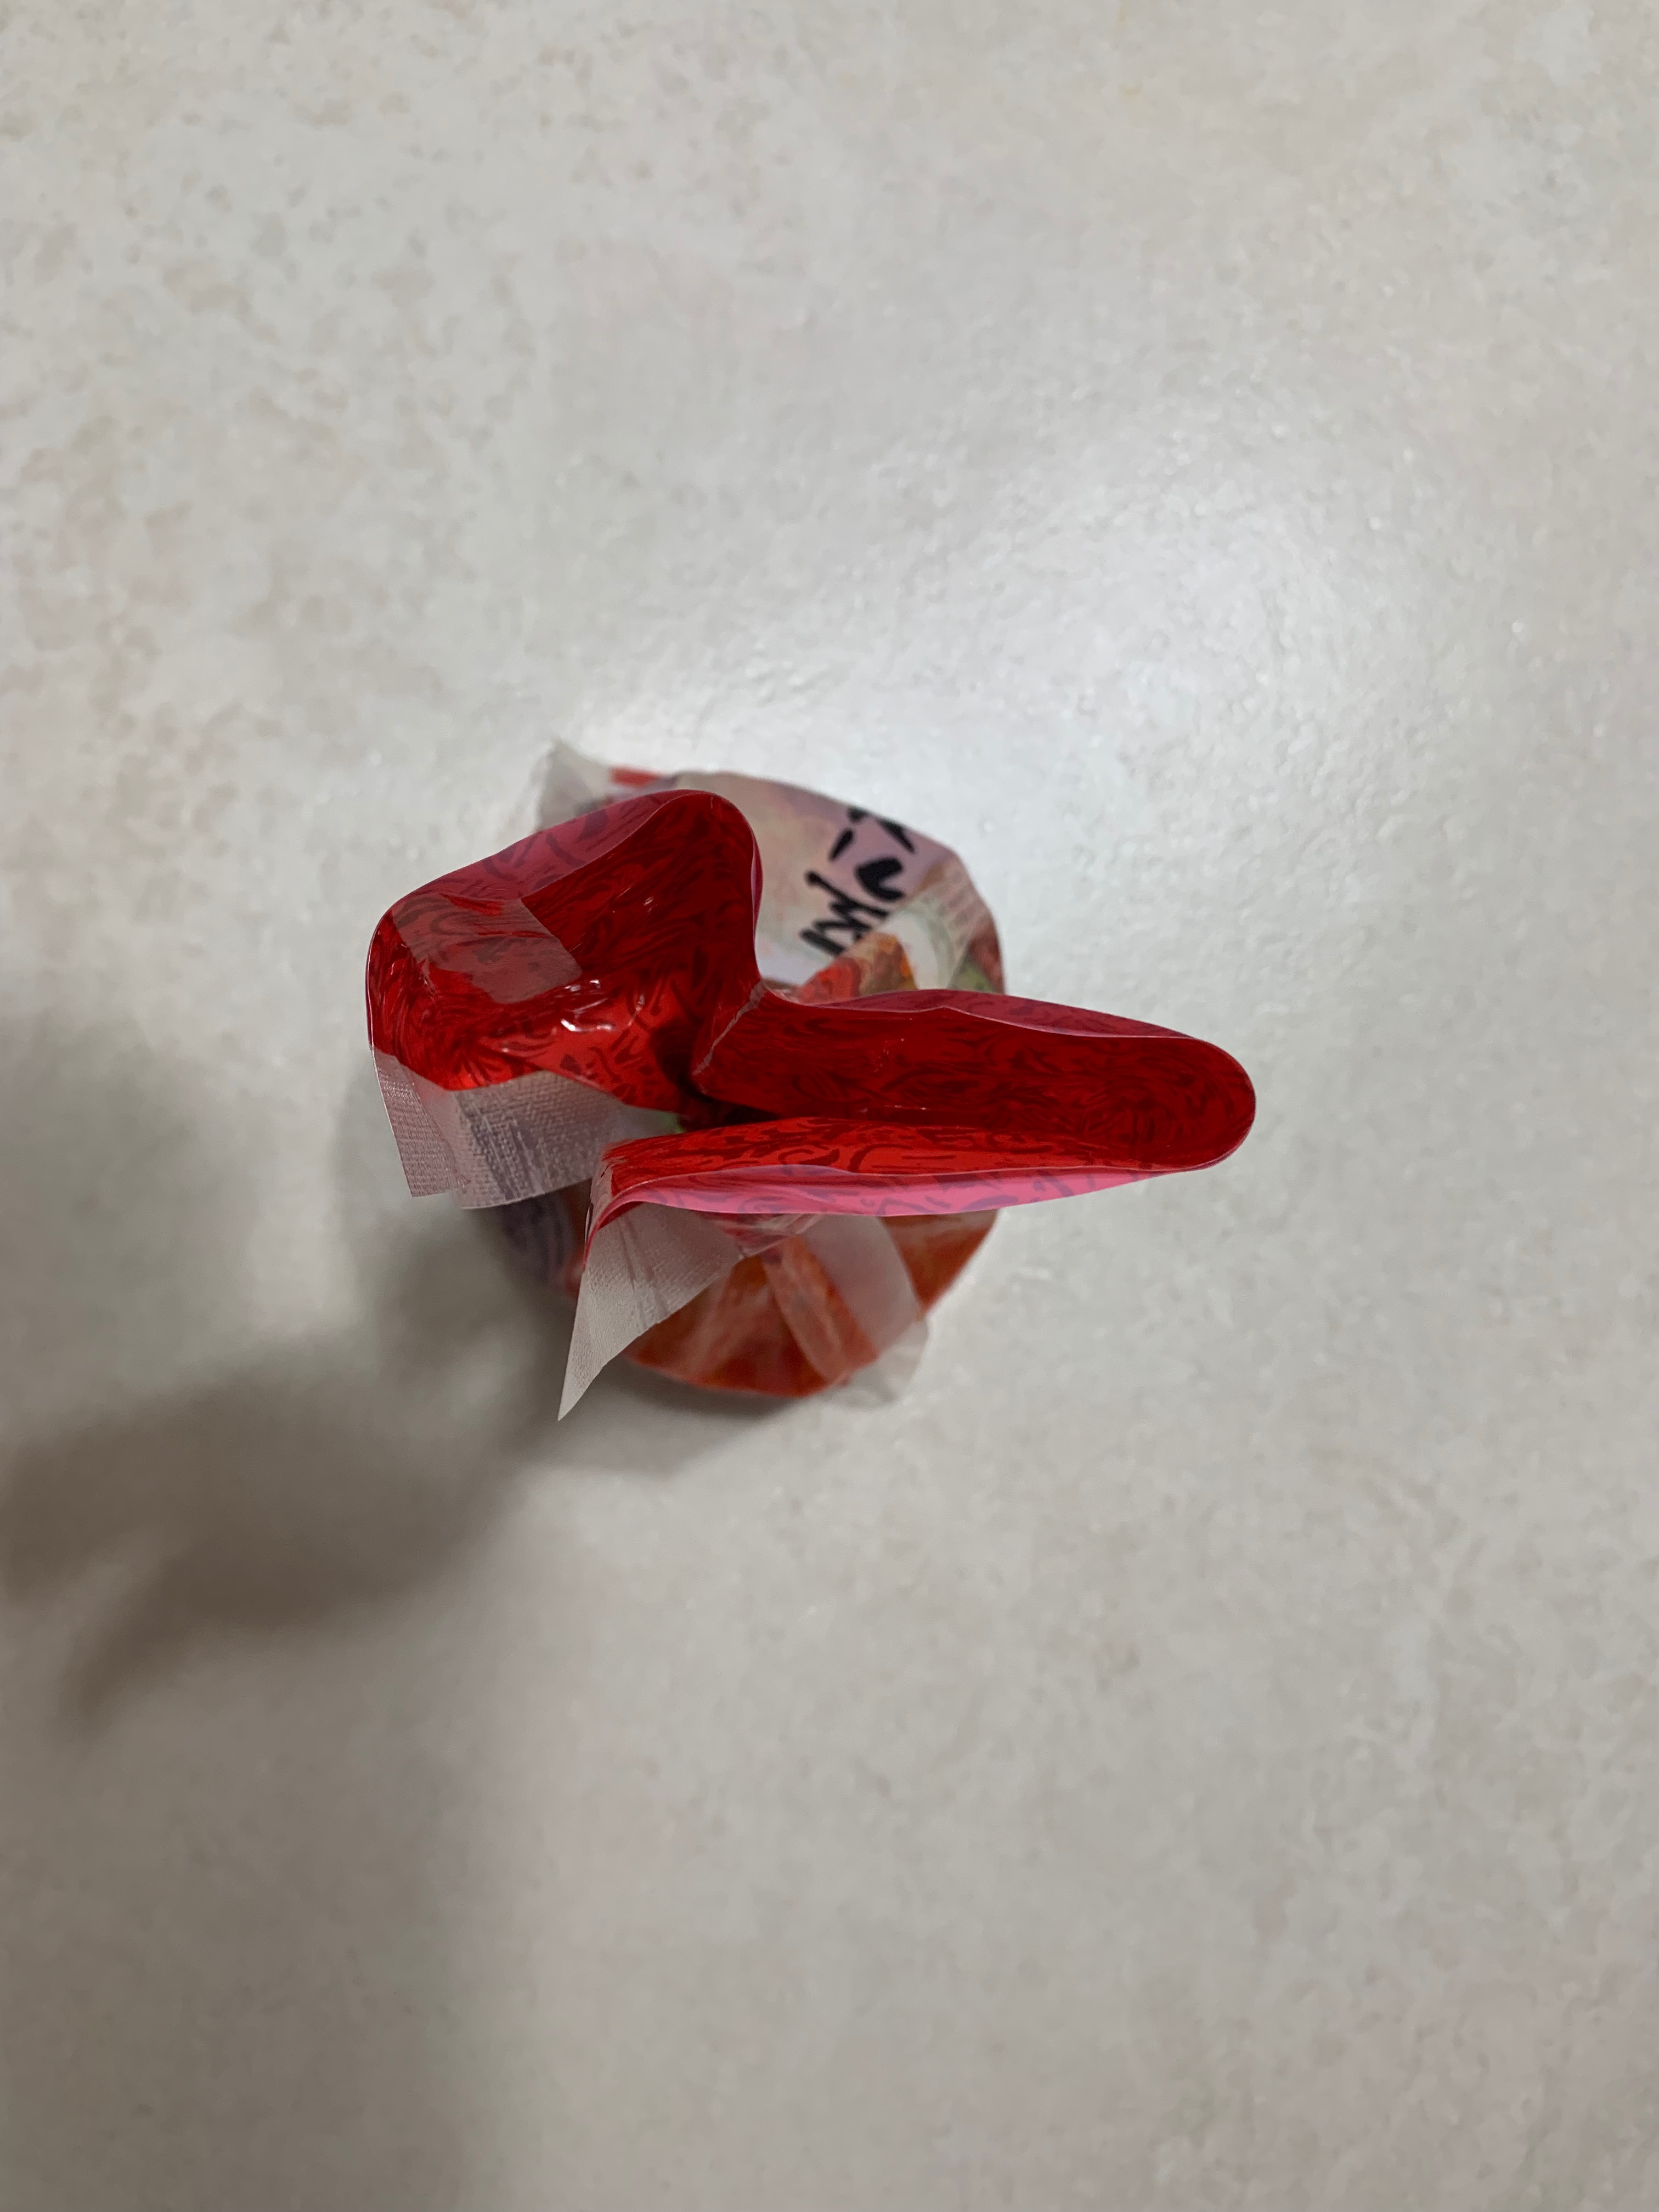kimchi: (362, 758, 1255, 1416)
